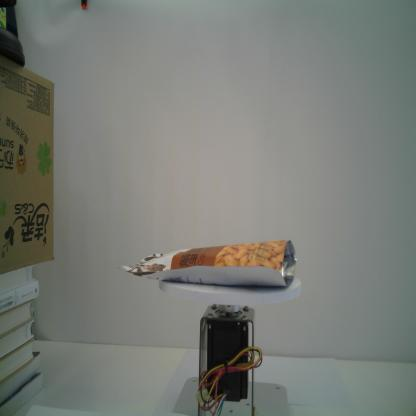Dried Fruit: (116, 238, 297, 288)
